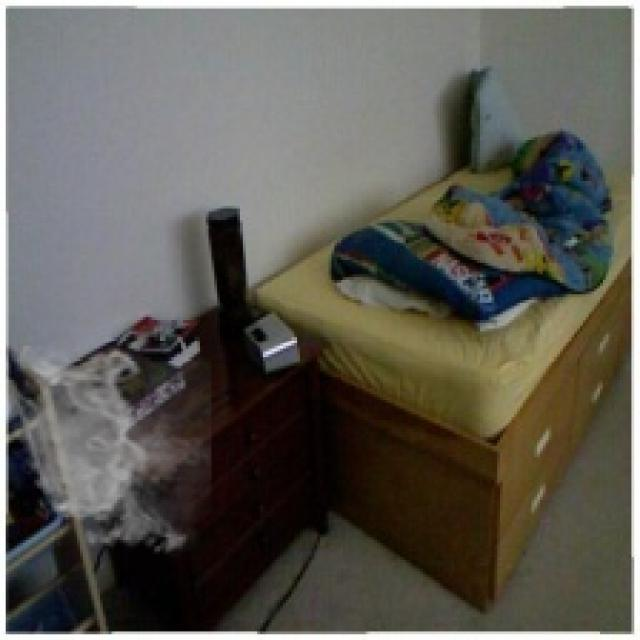Smoke: (5, 346, 212, 560)
